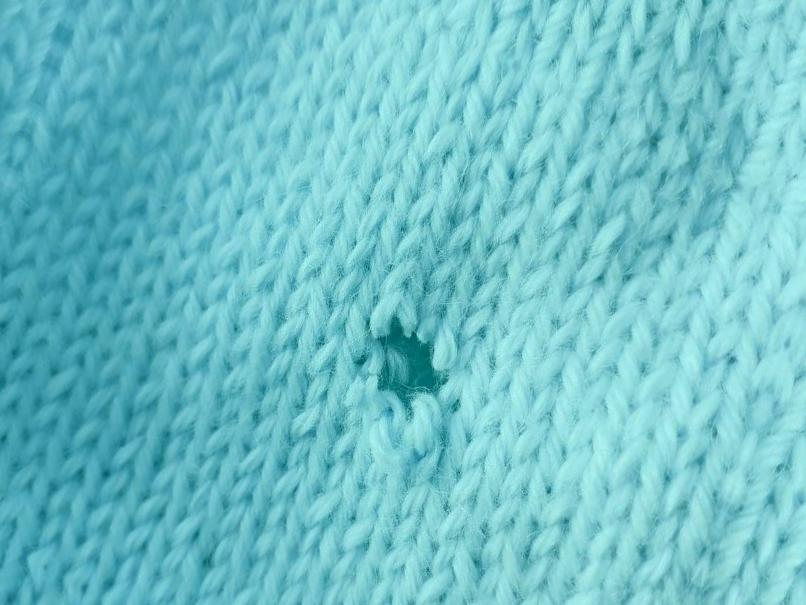hole: (353, 312, 475, 442)
